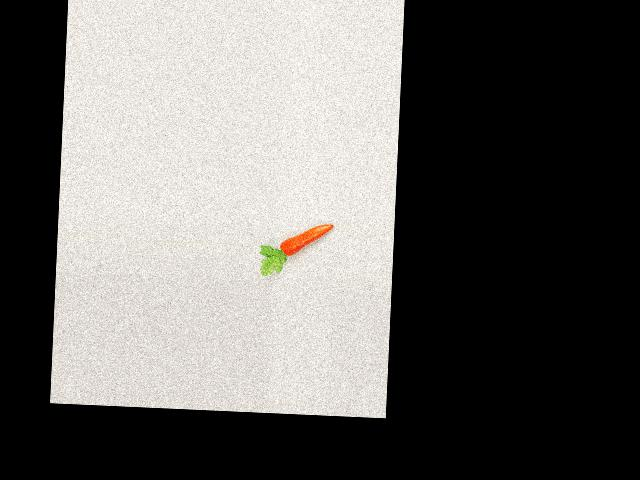carrot: (272, 220, 336, 263)
